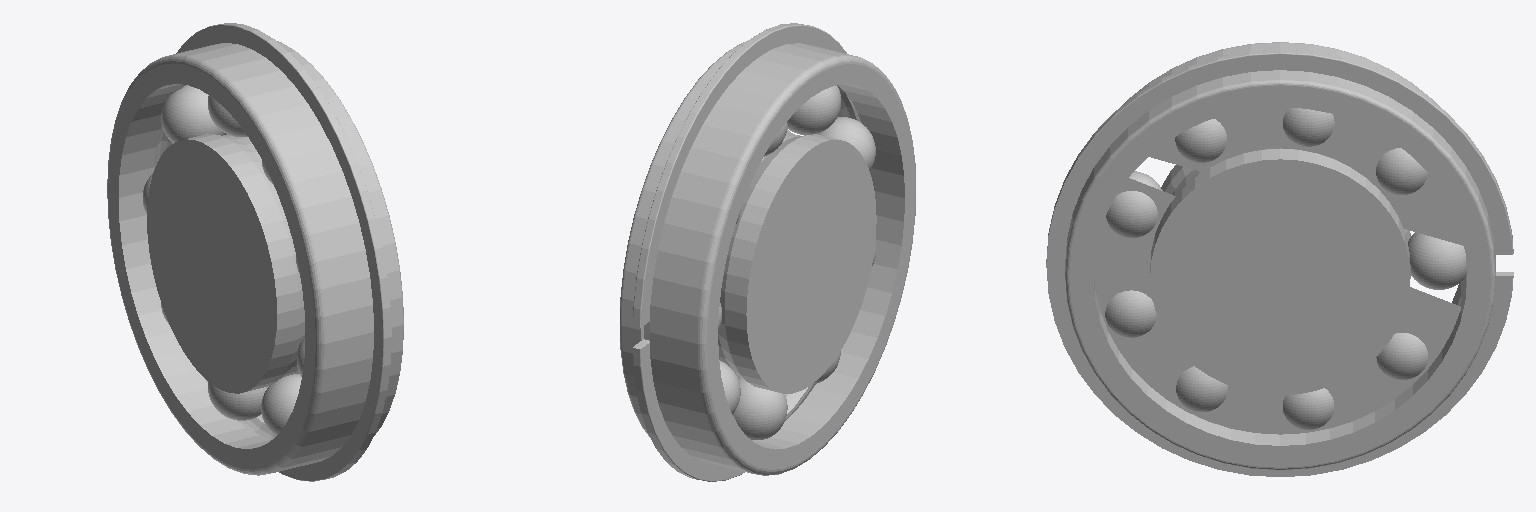
The model's file is podshipnik_kachenia_so_storony_vykida.obj.
3 renders of one model, left to right at view 1: azimuth 30°, elevation 25°; view 2: azimuth 150°, elevation 25°; view 3: azimuth 270°, elevation 25°, orthographic.
Visible parts, largest first — view 1: final_obj; view 2: final_obj; view 3: final_obj.
Boxes of the visible parts, x1,y1,x2,y2 form: final_obj: [107, 23, 403, 481]; final_obj: [620, 23, 915, 481]; final_obj: [1046, 42, 1513, 476].
Bounding box in the file's own units: 0.3031 × 1.4 × 1.4.